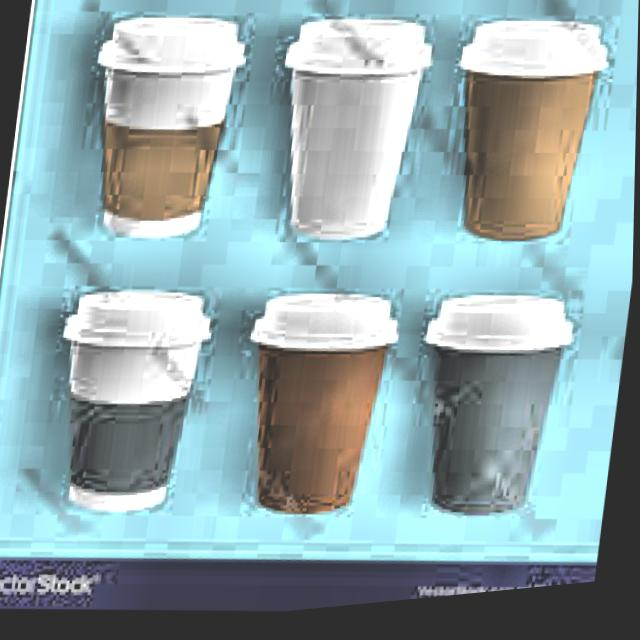Cup: (263, 21, 467, 295), (71, 18, 255, 261), (435, 21, 613, 271), (402, 306, 581, 543), (45, 294, 214, 533), (234, 309, 401, 537)
